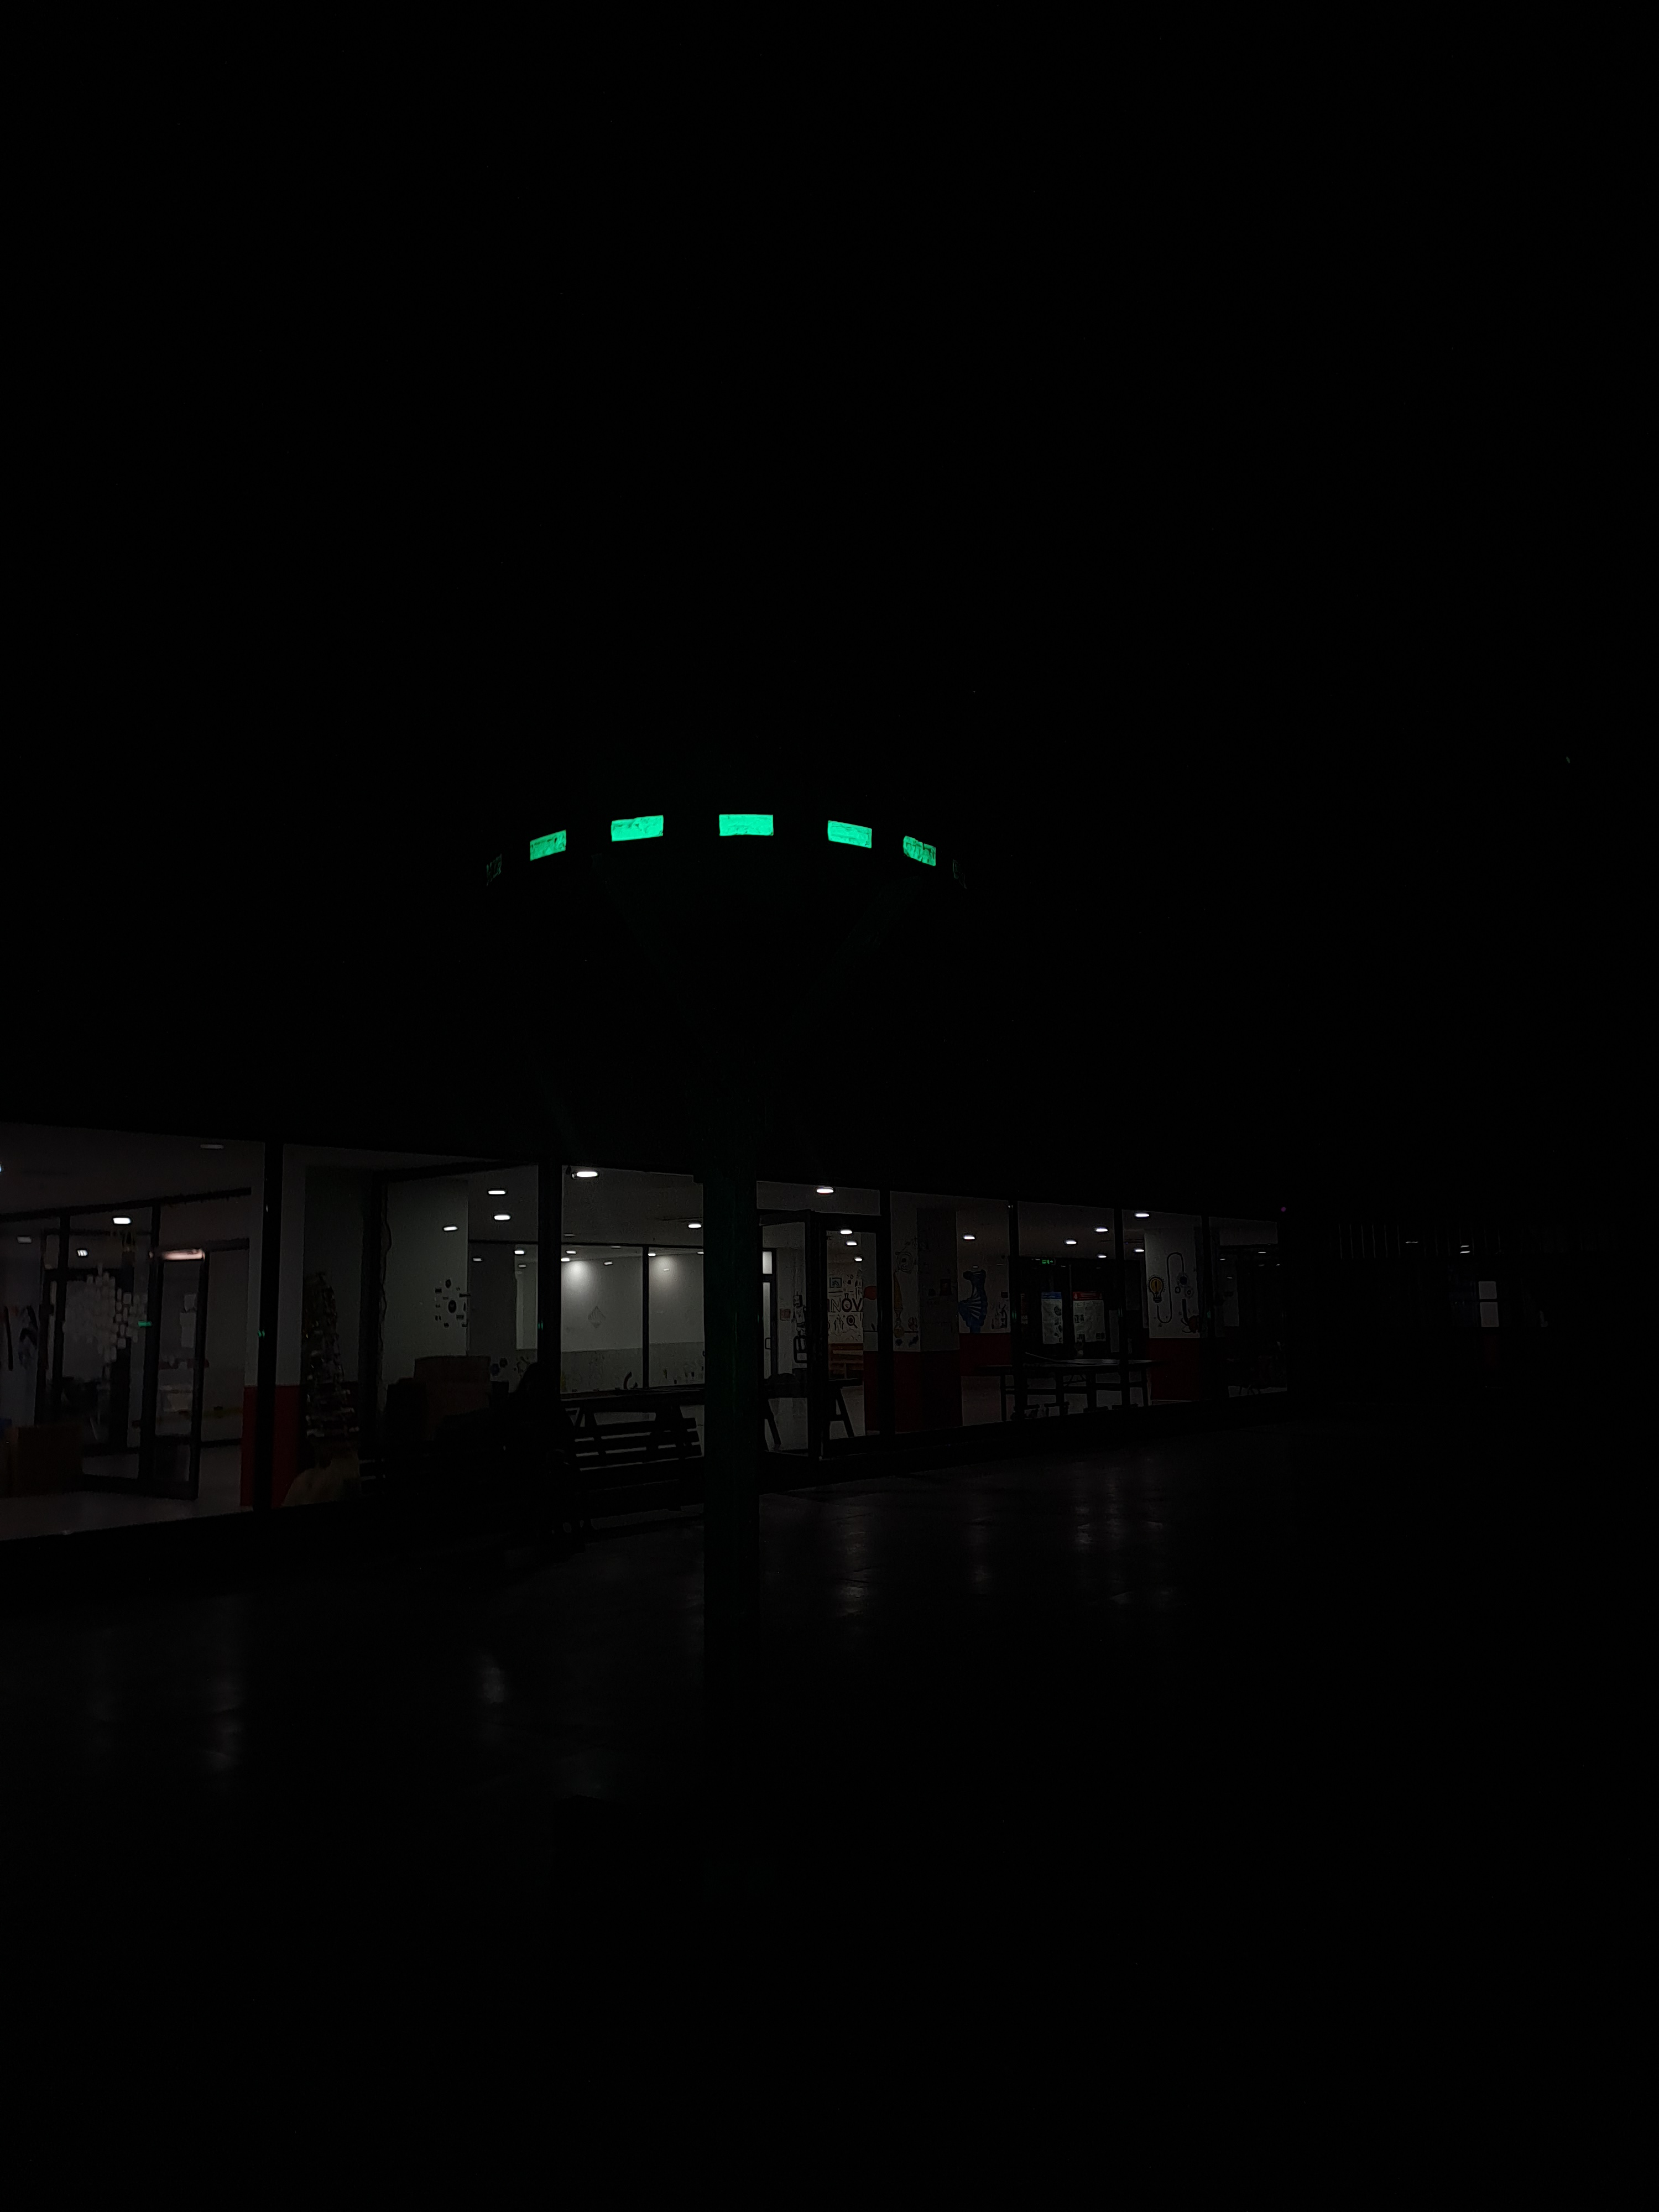hoop: (521, 810, 939, 873)
